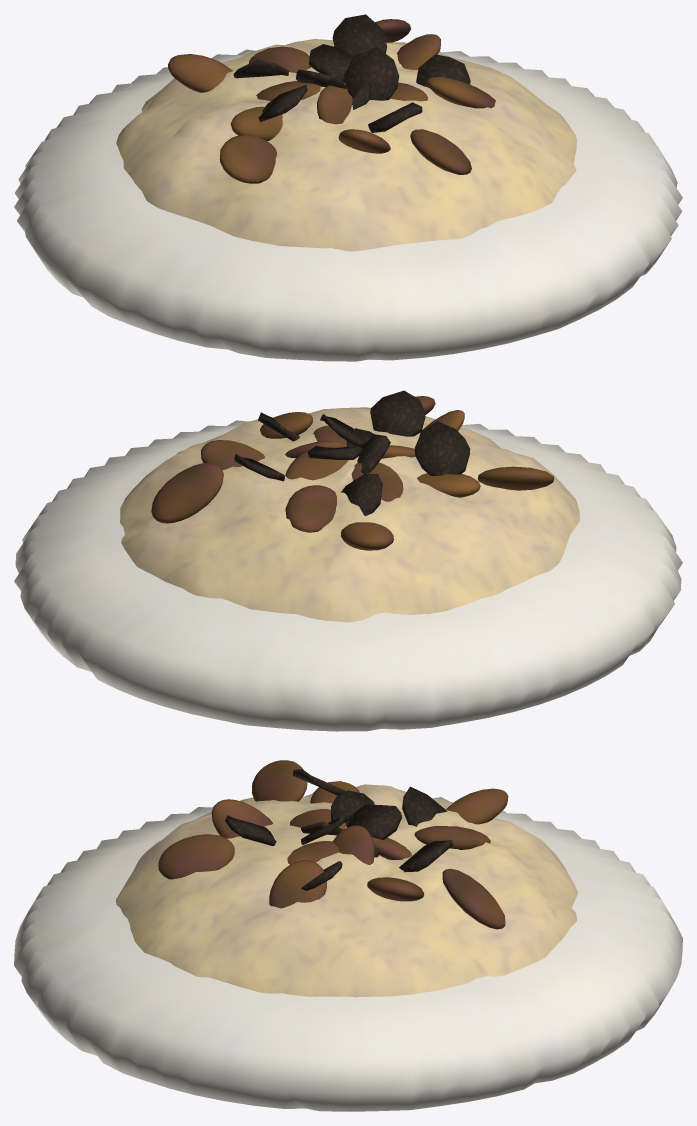
The model's file is truffle-mushroom-risotto-ultralight.glb.
The picture shows the model from 3 angles, top to bottom: view 1: azimuth 30°, elevation 25°; view 2: azimuth 150°, elevation 25°; view 3: azimuth 270°, elevation 25°; orthographic projection.
Visible parts, largest first — view 1: Mesh_Risotto_Porcelain_Bowl, Mesh_Arborio_Risotto_Mound, Mesh_Roasted_Cremini_Slices, Mesh_Shaved_Black_Truffle; view 2: Mesh_Risotto_Porcelain_Bowl, Mesh_Arborio_Risotto_Mound, Mesh_Roasted_Cremini_Slices, Mesh_Shaved_Black_Truffle; view 3: Mesh_Risotto_Porcelain_Bowl, Mesh_Arborio_Risotto_Mound, Mesh_Roasted_Cremini_Slices, Mesh_Shaved_Black_Truffle.
Boxes of the visible parts, left/top/right/bottom form: Mesh_Risotto_Porcelain_Bowl: left=14, top=49, right=682, bottom=361; Mesh_Arborio_Risotto_Mound: left=116, top=39, right=576, bottom=251; Mesh_Roasted_Cremini_Slices: left=168, top=19, right=495, bottom=183; Mesh_Shaved_Black_Truffle: left=233, top=14, right=470, bottom=132; Mesh_Risotto_Porcelain_Bowl: left=14, top=417, right=682, bottom=731; Mesh_Arborio_Risotto_Mound: left=120, top=407, right=579, bottom=622; Mesh_Roasted_Cremini_Slices: left=151, top=396, right=554, bottom=550; Mesh_Shaved_Black_Truffle: left=234, top=390, right=470, bottom=515; Mesh_Risotto_Porcelain_Bowl: left=14, top=793, right=682, bottom=1111; Mesh_Arborio_Risotto_Mound: left=116, top=784, right=578, bottom=997; Mesh_Roasted_Cremini_Slices: left=158, top=760, right=508, bottom=929; Mesh_Shaved_Black_Truffle: left=225, top=769, right=452, bottom=890.
Size of the model in its own units: 1.99 by 0.7373 by 1.99.
4 materials, 4 textured.
